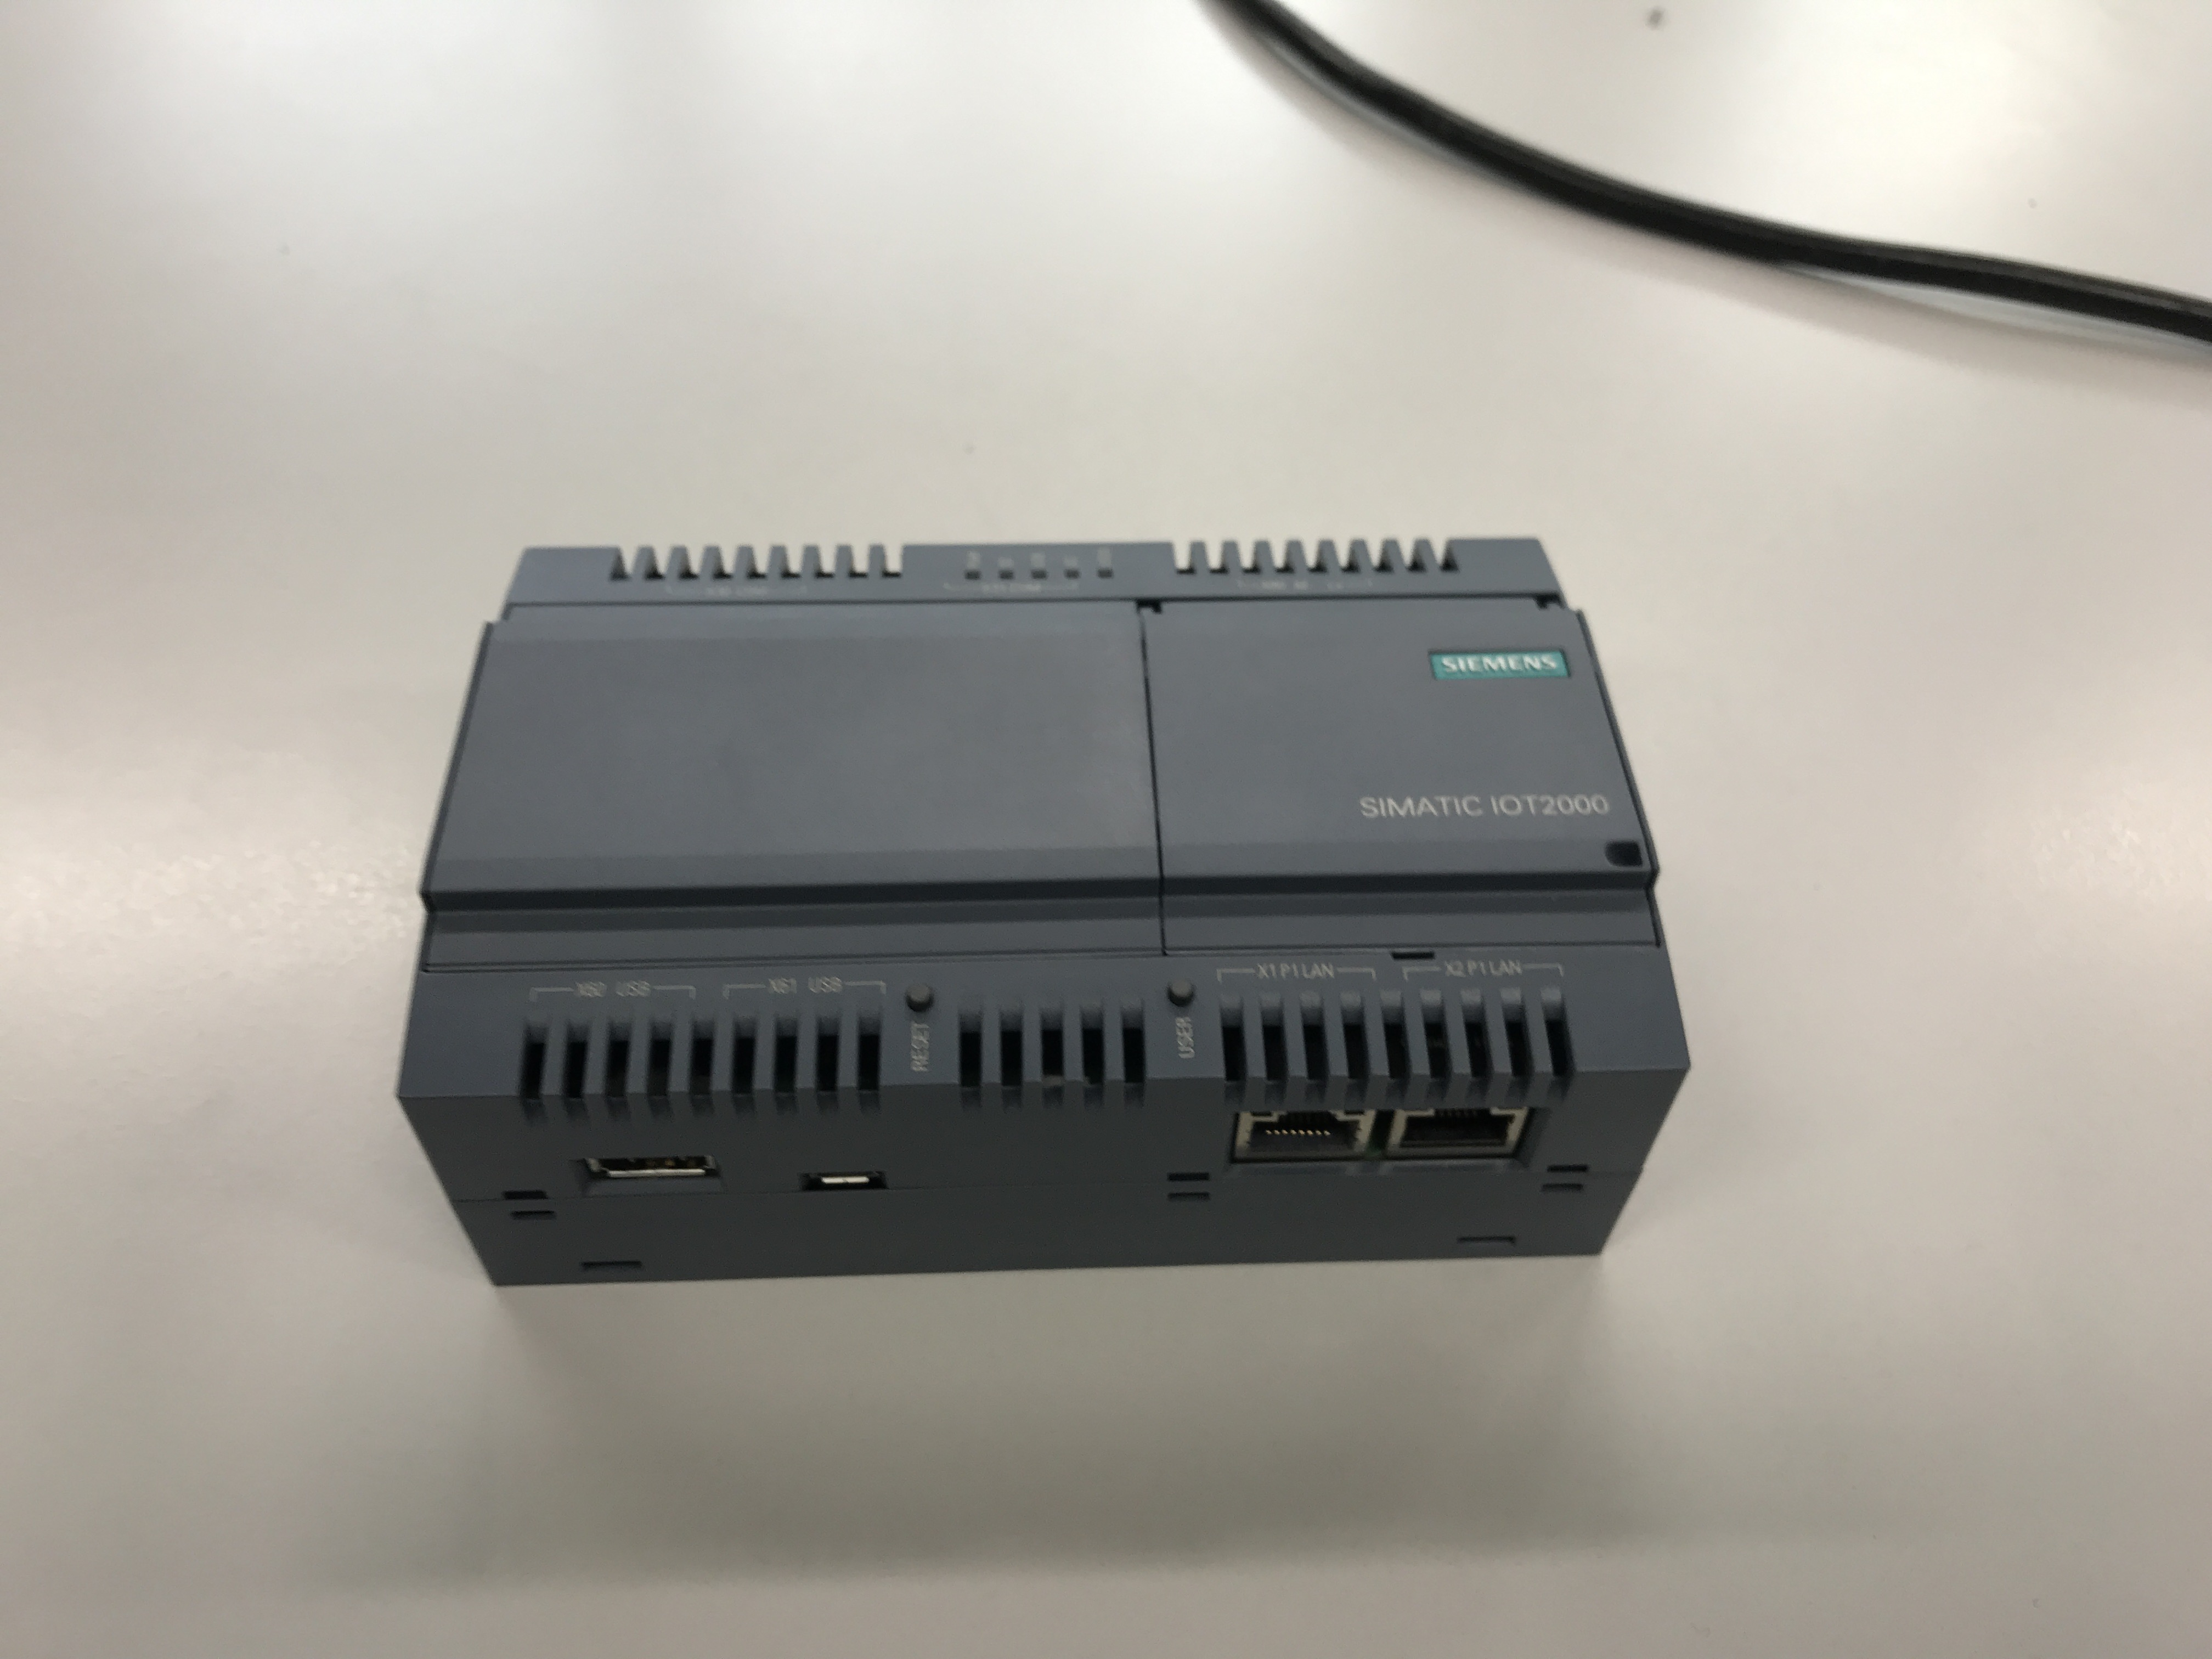device: (394, 537, 1696, 1291)
